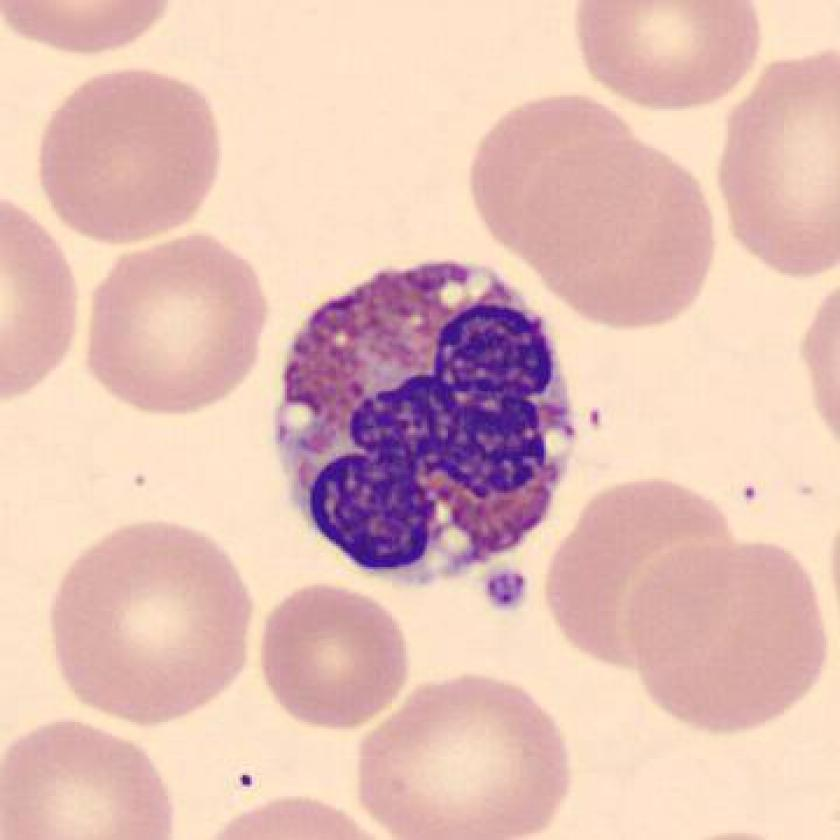eosinophil: (253, 246, 603, 589)
